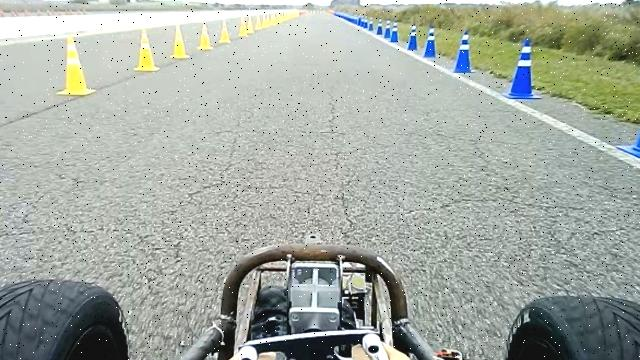blue cone: (504, 38, 542, 100), (617, 59, 640, 160), (453, 29, 476, 73), (422, 23, 438, 58), (406, 24, 419, 50), (390, 22, 400, 42), (383, 20, 392, 39), (376, 18, 384, 35), (368, 16, 374, 32)
yellow cone: (56, 35, 96, 96), (134, 28, 160, 72), (170, 23, 190, 59), (198, 22, 214, 50), (219, 20, 231, 44), (238, 16, 248, 37), (246, 16, 255, 34), (255, 15, 263, 30)
